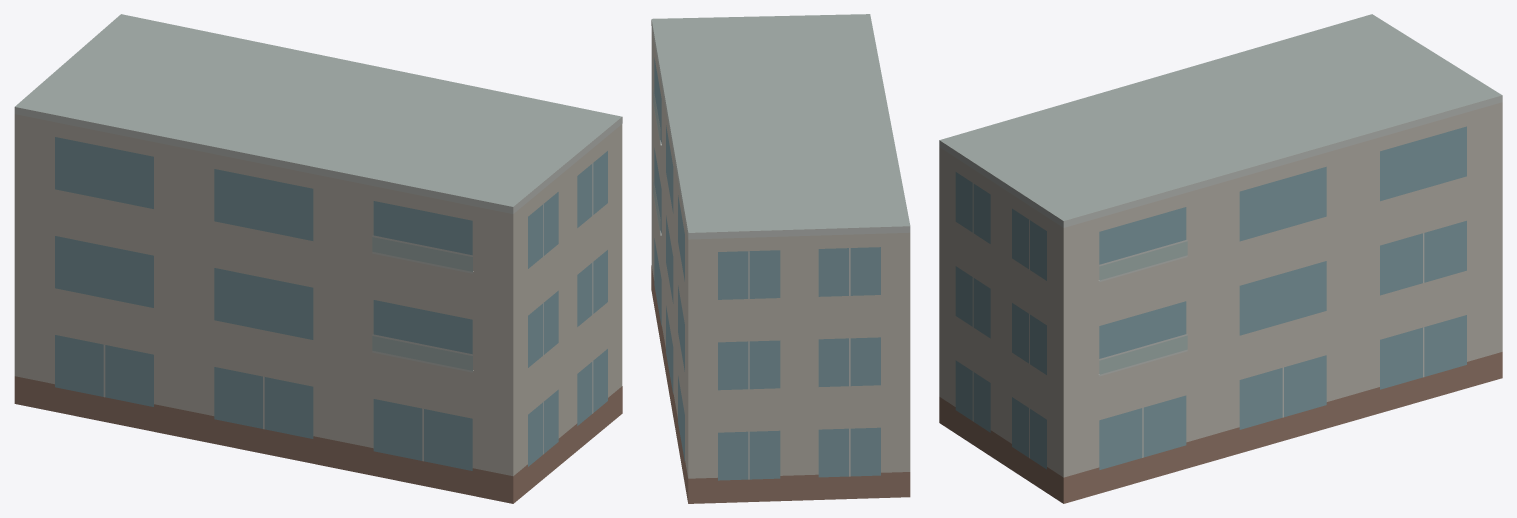
The model's file is survey-upis-32544253.glb.
3 renders of one model, left to right at view 1: azimuth 30°, elevation 25°; view 2: azimuth 150°, elevation 25°; view 3: azimuth 270°, elevation 25°, orthographic. The views are drawn at different scales.
Visible parts, largest first — view 1: survey-upis-32544253.tmp; view 2: survey-upis-32544253.tmp; view 3: survey-upis-32544253.tmp.
Boxes of the visible parts, x1,y1,x2,y2 form: survey-upis-32544253.tmp: (14,14,622,503); survey-upis-32544253.tmp: (651,14,910,503); survey-upis-32544253.tmp: (939,14,1502,503).
Size of the model in its own units: 15.88 by 10.1 by 18.25.
